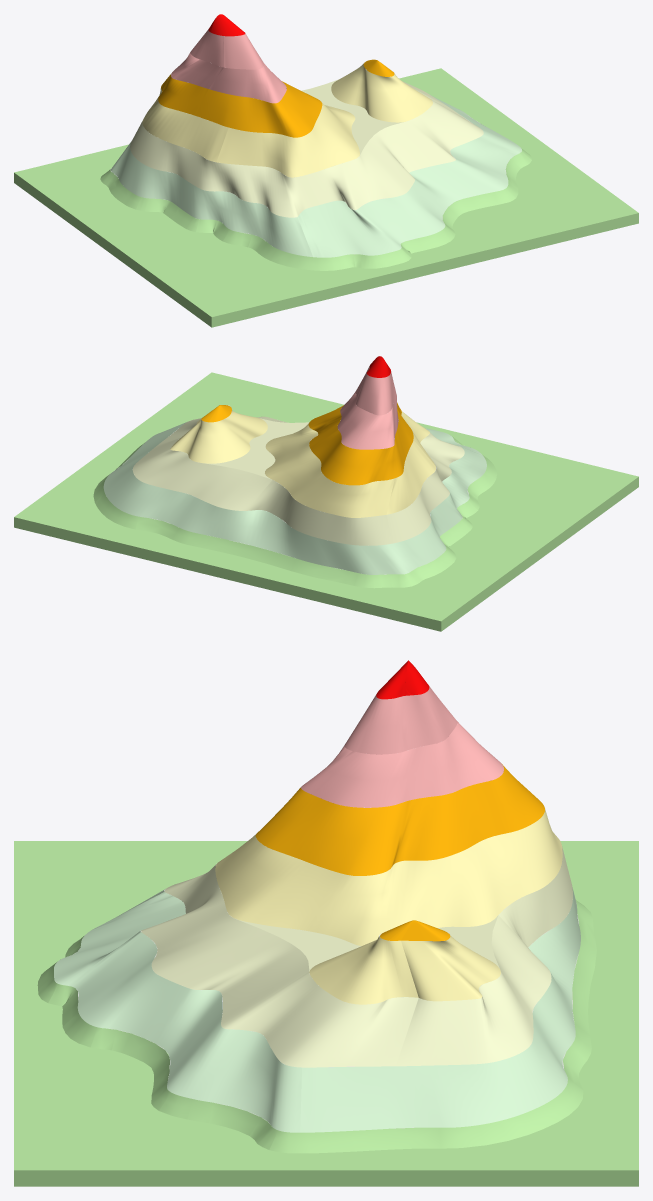
Rendered from hill.fbx.
The picture shows the model from 3 angles, top to bottom: view 1: azimuth 30°, elevation 25°; view 2: azimuth 150°, elevation 25°; view 3: azimuth 270°, elevation 25°; orthographic projection. The views are drawn at different scales.
Parts seen in each view (by area): view 1: 物件_20, 物件_1, 物件_4, 物件_9, 物件_12, 物件_10, 物件_8, 物件_11, 物件_3, 物件_7, 物件_22; view 2: 物件_20, 物件_1, 物件_4, 物件_9, 物件_12, 物件_10, 物件_8, 物件_11, 物件_7, 物件_3; view 3: 物件_20, 物件_1, 物件_4, 物件_9, 物件_12, 物件_10, 物件_8, 物件_11, 物件_3, 物件_7, 物件_22, 物件_2.
Part boxes in pixels (x1=…): 物件_20: x1=14, y1=68, x2=638, y2=327; 物件_1: x1=110, y1=95, x2=521, y2=257; 物件_4: x1=130, y1=81, x2=483, y2=217; 物件_9: x1=142, y1=88, x2=359, y2=177; 物件_12: x1=100, y1=148, x2=531, y2=270; 物件_10: x1=158, y1=74, x2=322, y2=137; 物件_8: x1=331, y1=63, x2=432, y2=122; 物件_11: x1=171, y1=52, x2=286, y2=103; 物件_3: x1=190, y1=29, x2=263, y2=69; 物件_7: x1=262, y1=79, x2=403, y2=177; 物件_22: x1=208, y1=14, x2=245, y2=36; 物件_20: x1=14, y1=372, x2=638, y2=631; 物件_1: x1=103, y1=422, x2=486, y2=574; 物件_4: x1=132, y1=416, x2=464, y2=545; 物件_9: x1=265, y1=411, x2=435, y2=517; 物件_12: x1=93, y1=436, x2=497, y2=588; 物件_10: x1=308, y1=402, x2=413, y2=485; 物件_8: x1=170, y1=410, x2=267, y2=463; 物件_11: x1=337, y1=391, x2=398, y2=449; 物件_7: x1=186, y1=418, x2=428, y2=487; 物件_3: x1=355, y1=366, x2=396, y2=415; 物件_20: x1=14, y1=841, x2=638, y2=1186; 物件_1: x1=54, y1=887, x2=580, y2=1132; 物件_4: x1=141, y1=846, x2=572, y2=1067; 物件_9: x1=215, y1=809, x2=562, y2=946; 物件_12: x1=37, y1=900, x2=596, y2=1153; 物件_10: x1=255, y1=764, x2=544, y2=875; 物件_8: x1=309, y1=935, x2=500, y2=1004; 物件_11: x1=301, y1=721, x2=503, y2=807; 物件_3: x1=344, y1=686, x2=457, y2=754; 物件_7: x1=221, y1=893, x2=526, y2=997; 物件_22: x1=376, y1=660, x2=429, y2=699; 物件_2: x1=380, y1=920, x2=450, y2=941.
Bounding box in the file's own units: 4.92 × 2.08 × 3.94.
